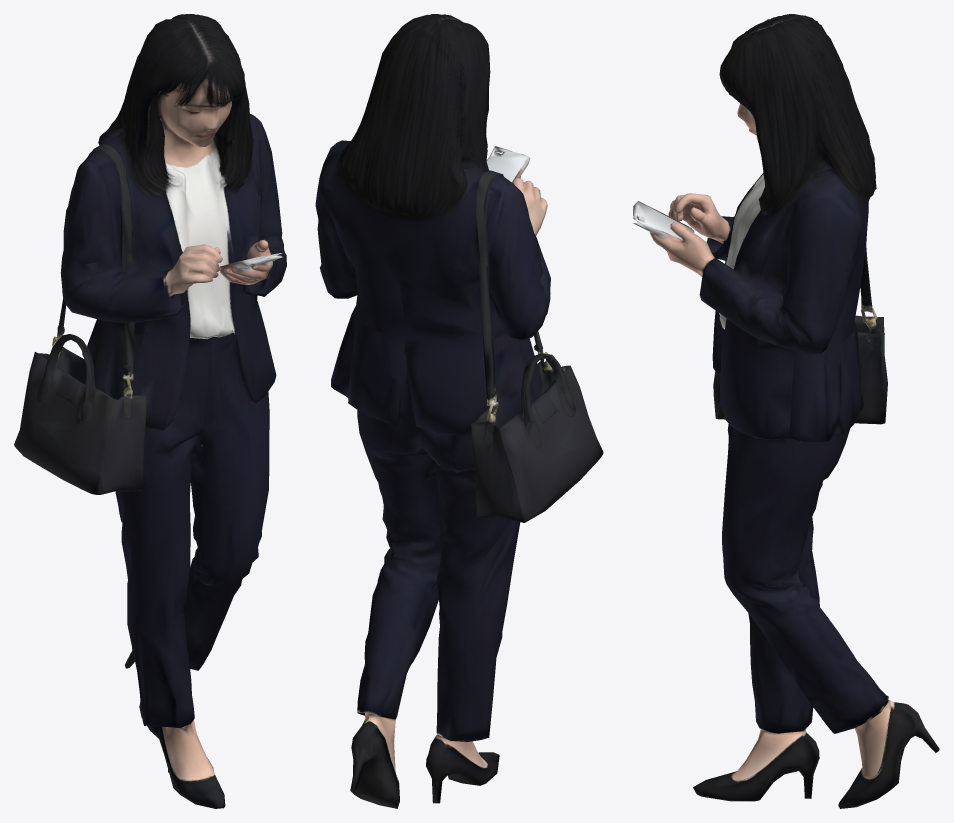
The model's file is person-business-w01.glb.
3 renders of one model, left to right at view 1: azimuth 30°, elevation 25°; view 2: azimuth 150°, elevation 25°; view 3: azimuth 270°, elevation 25°, orthographic. The views are drawn at different scales.
Parts seen in each view (by area): view 1: JPGV01_W01_L10k; view 2: JPGV01_W01_L10k; view 3: JPGV01_W01_L10k.
Boxes of the visible parts, x1,y1,x2,y2 form: JPGV01_W01_L10k: (14,14,286,808); JPGV01_W01_L10k: (315,14,603,808); JPGV01_W01_L10k: (633,14,939,808).
Size of the model in its own units: 0.5473 by 1.64 by 0.5831.
Materials: 1 (1 with a texture image).
